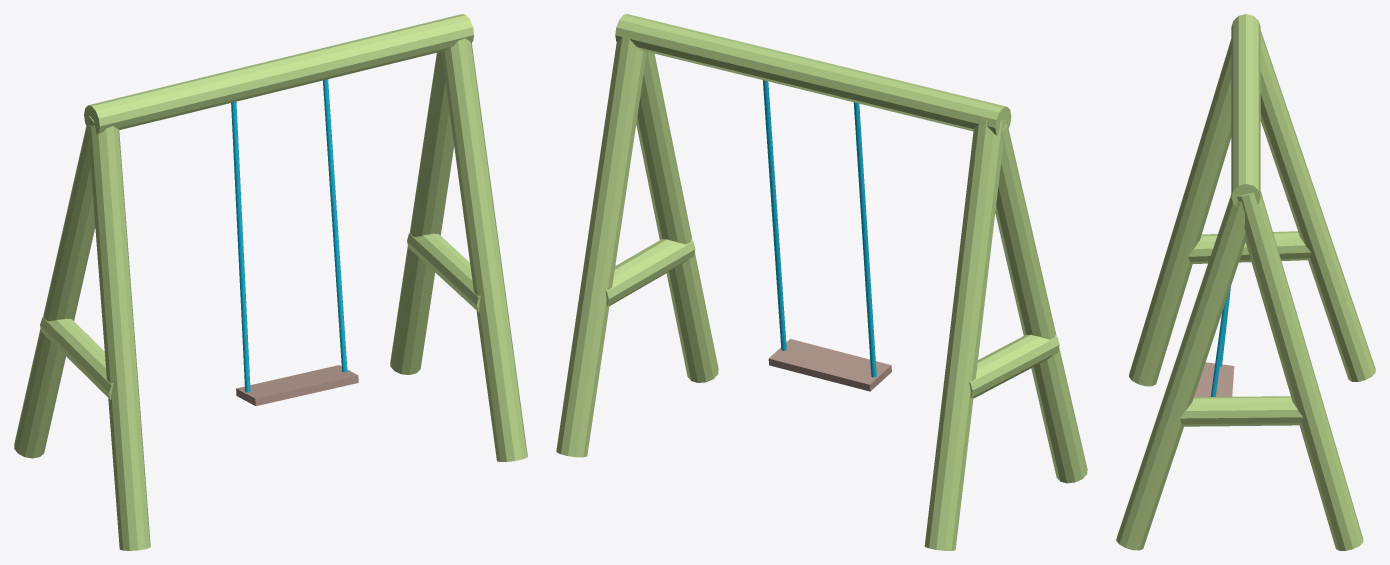
Rendered from Altalena_2.fbx.
The picture shows the model from 3 angles, left to right: view 1: azimuth 30°, elevation 25°; view 2: azimuth 150°, elevation 25°; view 3: azimuth 270°, elevation 25°; orthographic projection. The views are drawn at different scales.
Visible parts, largest first — view 1: mesh316796731, mesh713593639, mesh2101841408, mesh238615959, mesh421099618, mesh300583873, mesh1915487356, mesh1485510515, mesh1133542798, mesh1064414690; view 2: mesh238615959, mesh421099618, mesh2101841408, mesh316796731, mesh713593639, mesh1915487356, mesh300583873, mesh1485510515, mesh1064414690, mesh1133542798; view 3: mesh421099618, mesh713593639, mesh238615959, mesh316796731, mesh2101841408, mesh1485510515, mesh300583873, mesh1915487356, mesh1133542798.
Boxes of the visible parts, box(x1,y1,x2,y2) form: mesh316796731: box(87, 125, 150, 550); mesh713593639: box(441, 38, 527, 461); mesh2101841408: box(84, 14, 473, 134); mesh238615959: box(14, 116, 95, 458); mesh421099618: box(390, 52, 453, 374); mesh300583873: box(40, 316, 113, 399); mesh1915487356: box(236, 365, 358, 405); mesh1485510515: box(407, 232, 480, 312); mesh1133542798: box(323, 79, 347, 372); mesh1064414690: box(231, 102, 250, 392); mesh238615959: box(924, 118, 1006, 550); mesh421099618: box(556, 30, 646, 457); mesh2101841408: box(615, 14, 1011, 135); mesh316796731: box(995, 123, 1087, 483); mesh713593639: box(636, 51, 718, 382); mesh1915487356: box(768, 339, 891, 391); mesh300583873: box(969, 334, 1059, 398); mesh1485510515: box(605, 239, 695, 306); mesh1064414690: box(853, 102, 876, 377); mesh1133542798: box(762, 80, 786, 350); mesh421099618: box(1237, 185, 1363, 550); mesh713593639: box(1116, 195, 1245, 550); mesh238615959: box(1259, 26, 1375, 381); mesh316796731: box(1129, 39, 1231, 386); mesh2101841408: box(1231, 14, 1260, 206); mesh1485510515: box(1180, 396, 1303, 426); mesh300583873: box(1188, 231, 1311, 263); mesh1915487356: box(1194, 362, 1234, 397); mesh1133542798: box(1210, 289, 1230, 396).
Size of the model in its own units: 119 by 112 by 70.61.
